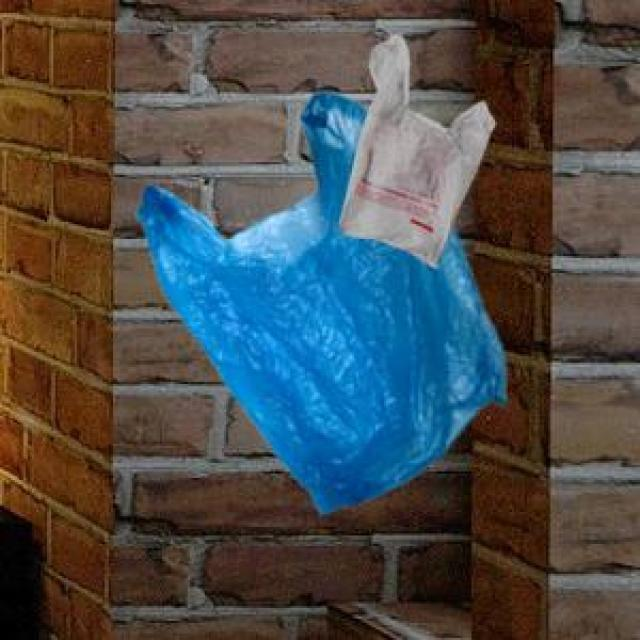waste: (138, 36, 506, 512)
